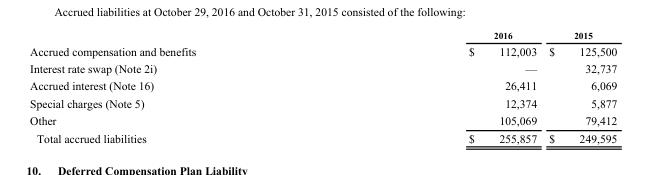table: (29, 29, 616, 144)
table column: (29, 29, 331, 144), (331, 29, 542, 144), (542, 29, 616, 144)
table column header: (29, 29, 616, 41)
table row: (29, 41, 616, 59), (29, 76, 616, 94), (29, 59, 616, 76), (29, 94, 616, 111), (29, 111, 616, 128), (29, 128, 616, 144), (29, 29, 616, 41)
